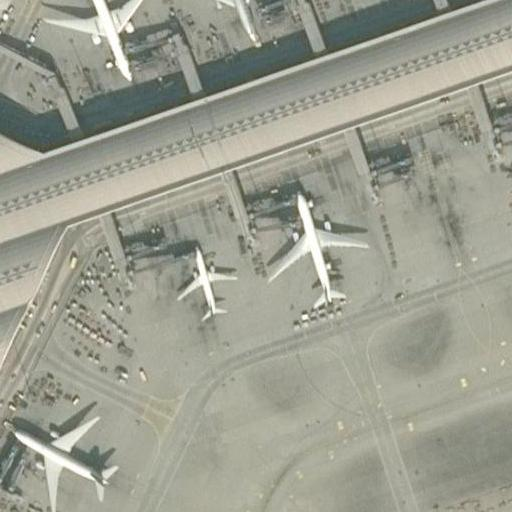Aircraft: (260, 179, 379, 312), (3, 409, 123, 512), (32, 0, 155, 84), (168, 239, 236, 329), (162, 0, 294, 46), (506, 91, 512, 225)
